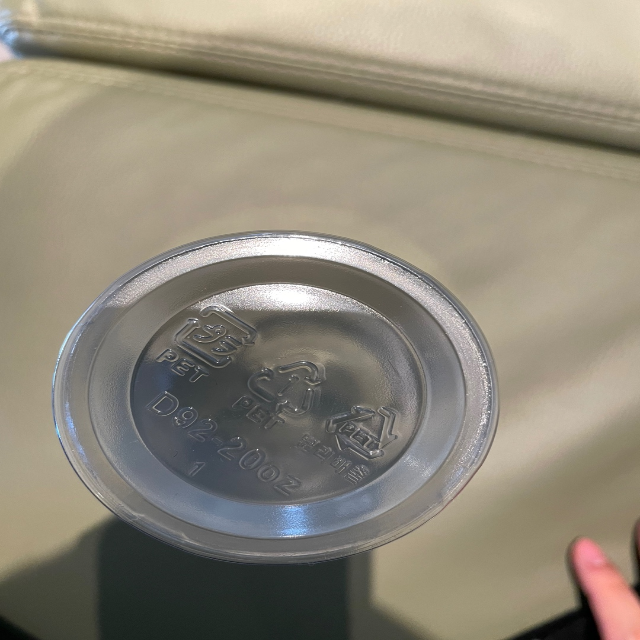pet: (295, 397, 410, 487), (154, 299, 260, 386), (235, 354, 324, 433)
